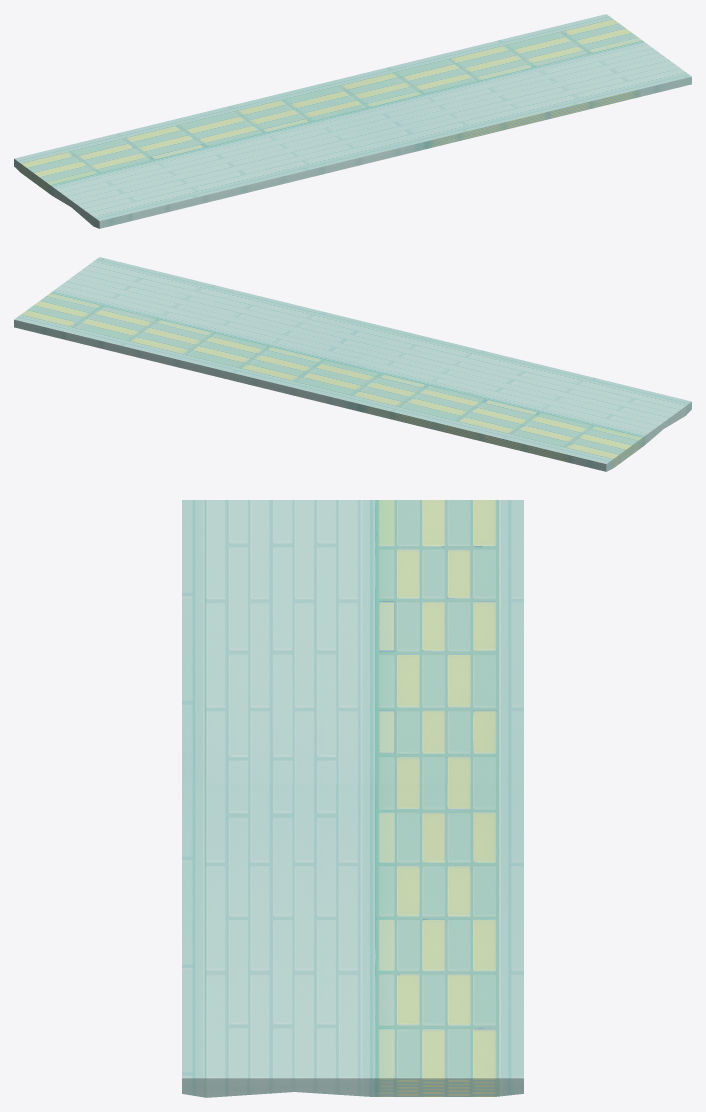
Rendered from Pared Lobby UNI.fbx.
The picture shows the model from 3 angles, top to bottom: view 1: azimuth 30°, elevation 25°; view 2: azimuth 150°, elevation 25°; view 3: azimuth 270°, elevation 25°; orthographic projection. The views are drawn at different scales.
Parts seen in each view (by area): view 1: Cube; view 2: Cube; view 3: Cube.
Boxes of the visible parts, left/top/right/bottom form: Cube: left=14, top=14, right=691, bottom=228; Cube: left=14, top=257, right=691, bottom=471; Cube: left=182, top=500, right=523, bottom=1097.
Bounding box in the file's own units: 4000 × 63 × 1000.
